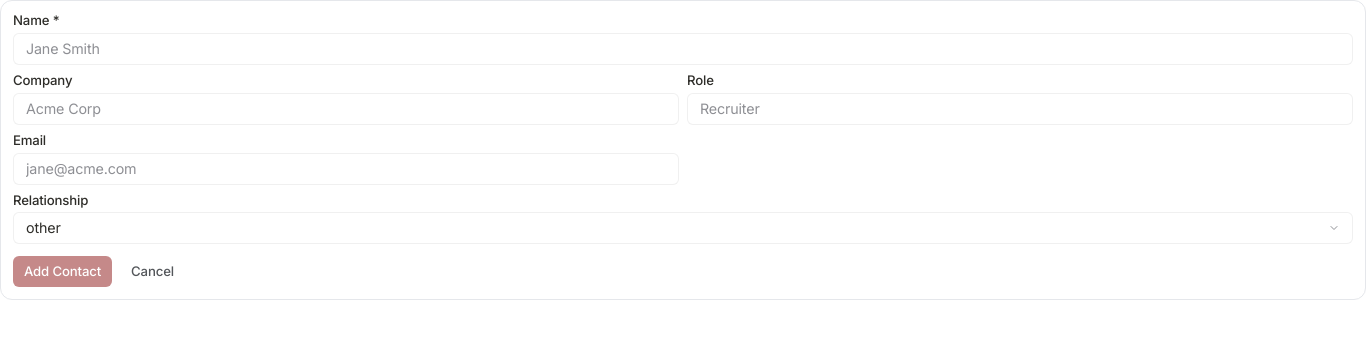
Scenario: ContactForm › error handling › should clear error when form is modified after error
Type "John Doe" into the field with placeholder "Jane Smith" at (683, 49), box [13,33,1353,65]
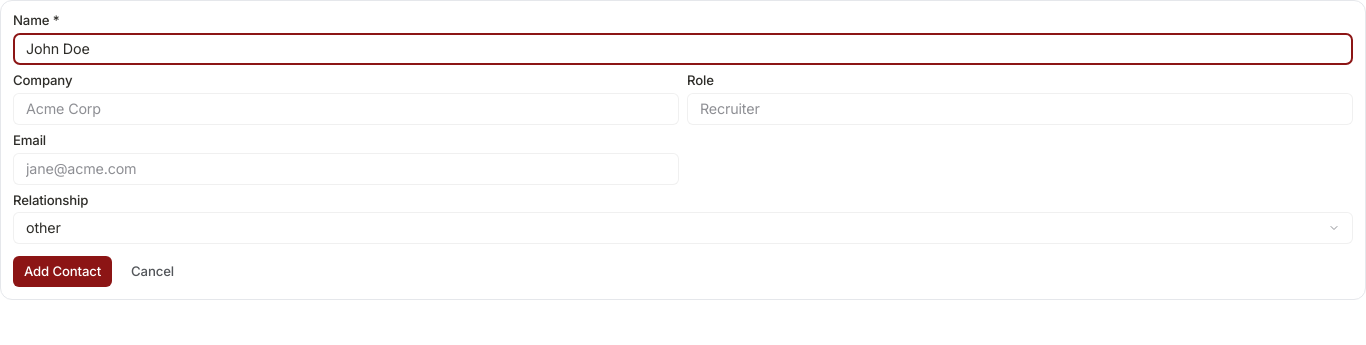
Click the button "Add Contact" at (63, 272), box [13,256,112,287]
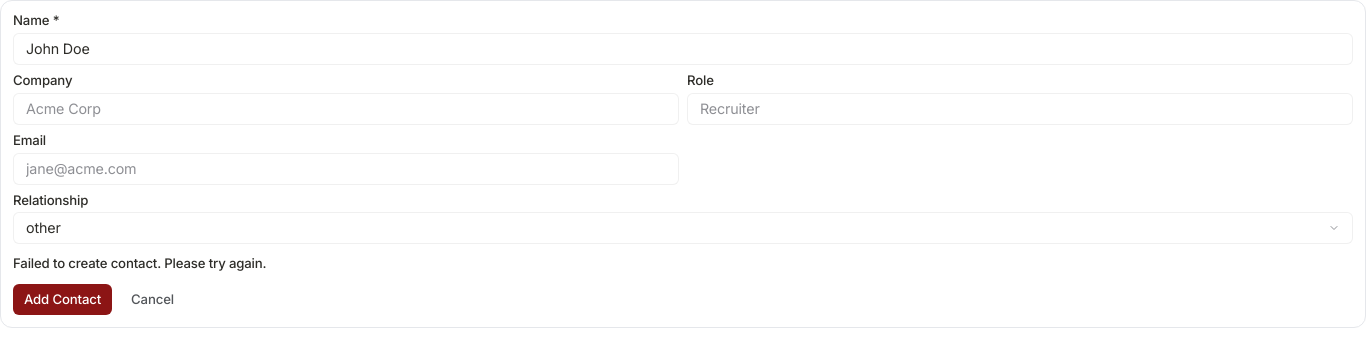
Expected: the text "Failed to create contact. Please try again." is shown, [13,255,266,271]
Clear the field with placeholder "Jane Smith" at (683, 49), box [13,33,1353,65]
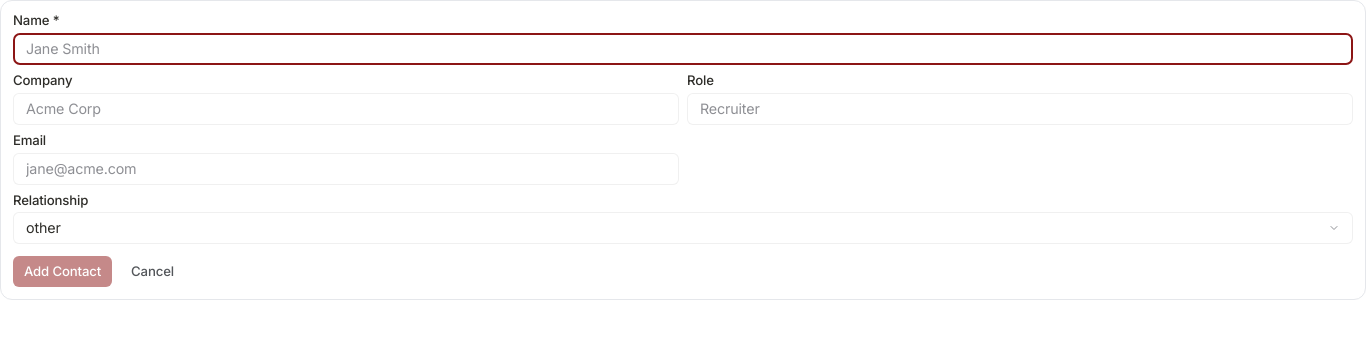
Expected: the text "Failed to create contact. Please try again." is gone
